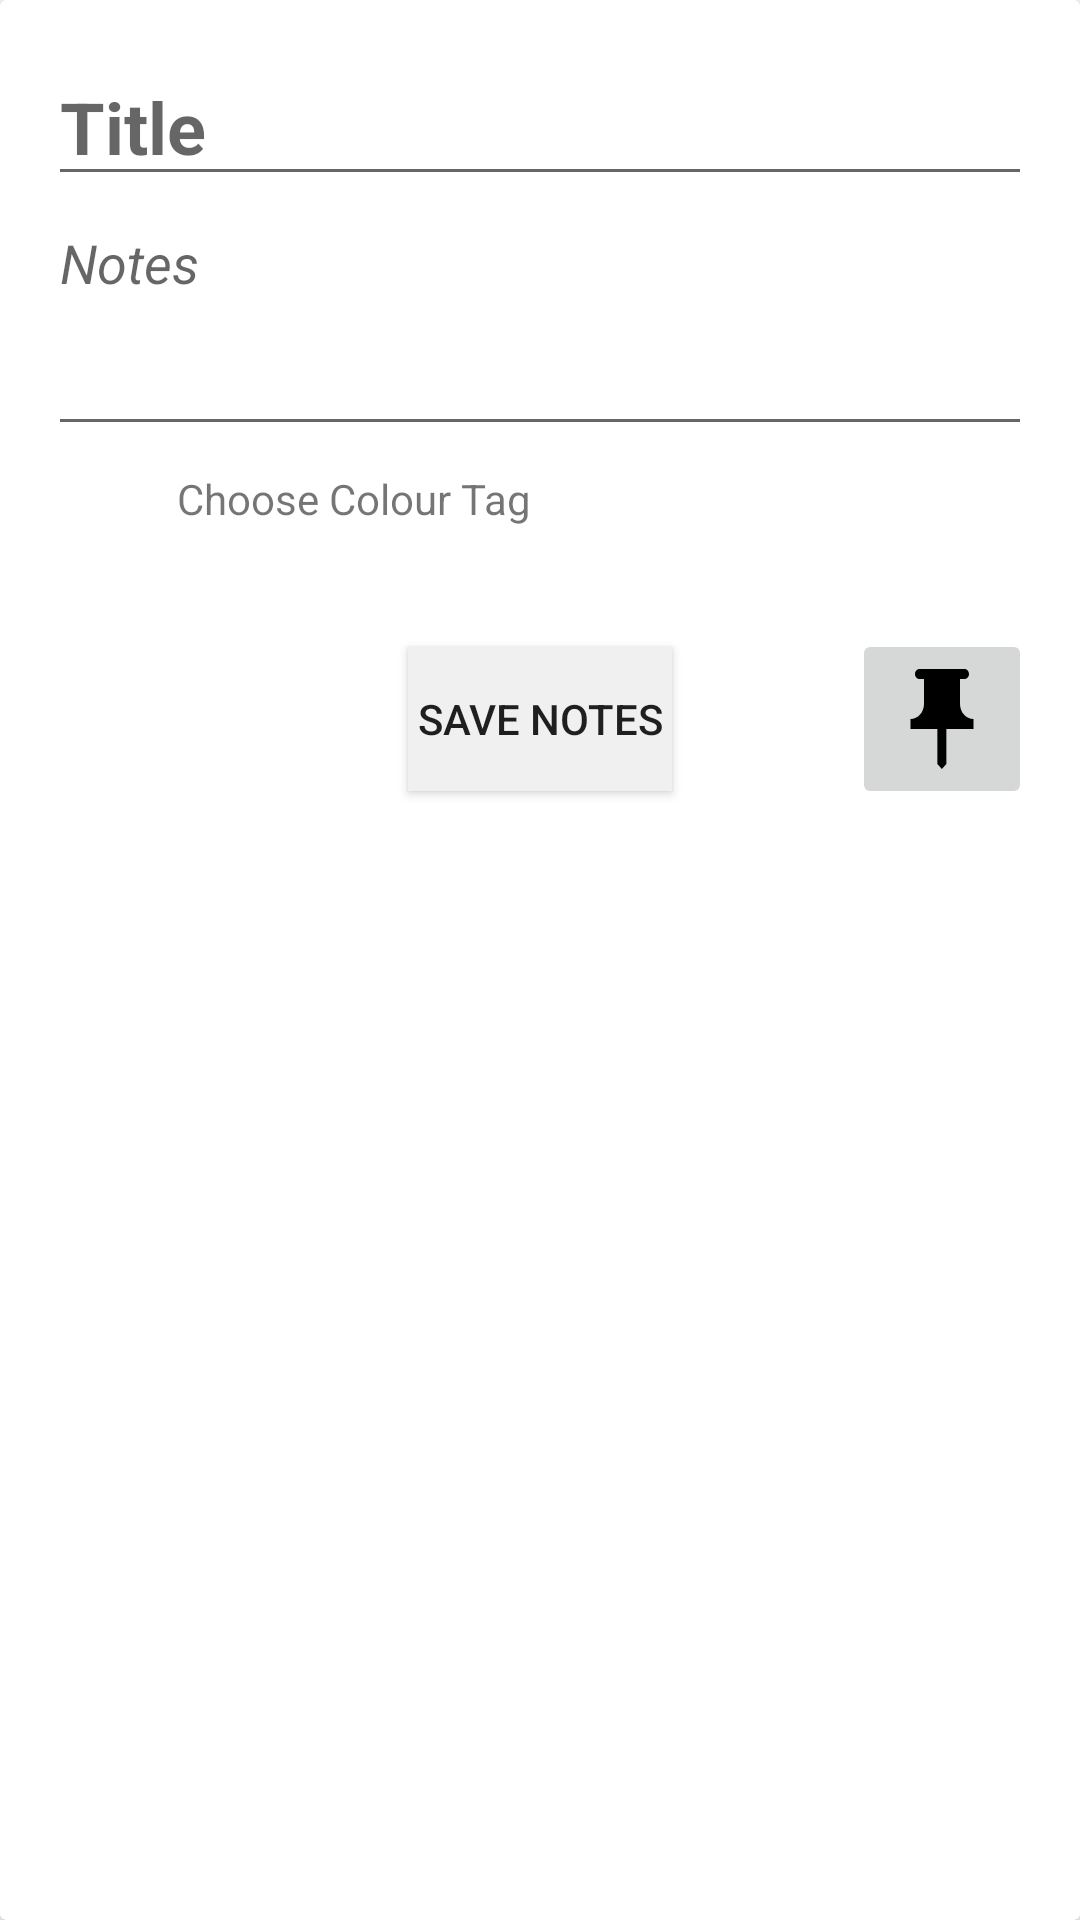

Screen size 1080*1920. Icon name, then its box in pixels as [left=x1, top=y1, right=x2, bottom=y2]:
push pin: [left=864, top=647, right=1020, bottom=791]
